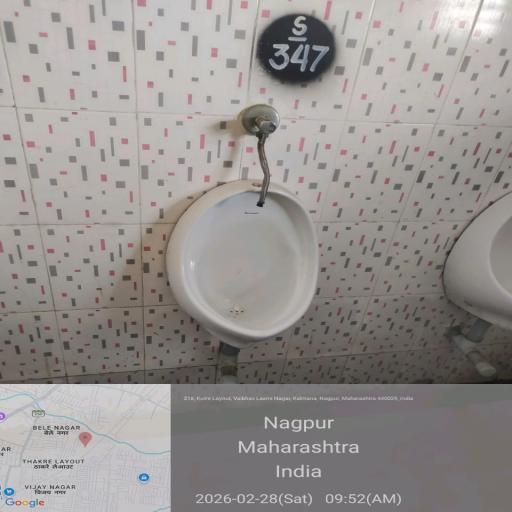clean_floor: (7, 0, 502, 175), (0, 180, 159, 369), (324, 187, 445, 376)
clean_urinal: (180, 198, 316, 339)
